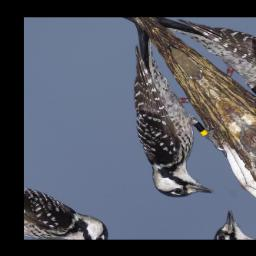Woodpecker: (50, 21, 256, 216)
